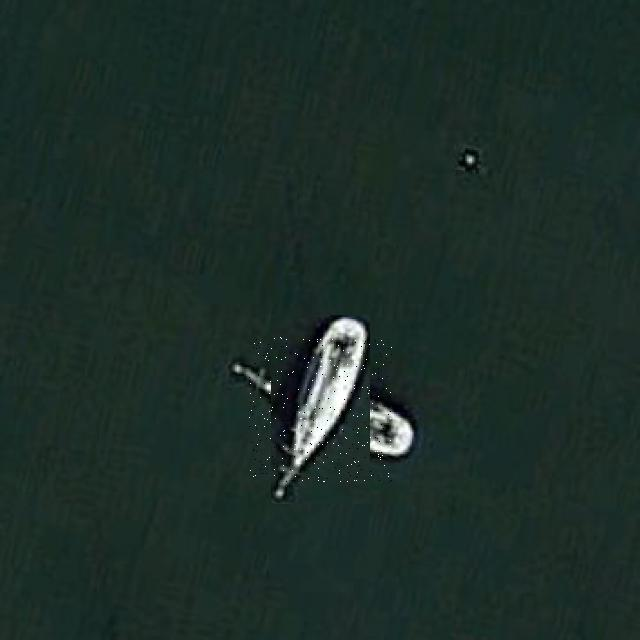boat: (249, 337, 393, 482)
